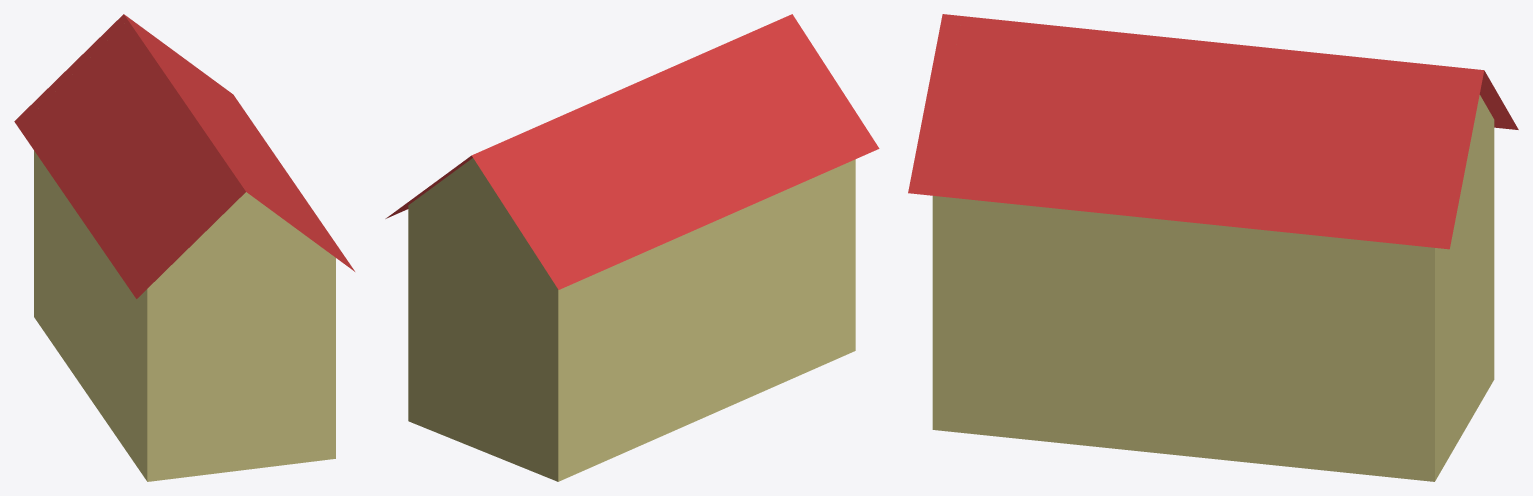
3 renders of one model, left to right at view 1: azimuth 30°, elevation 25°; view 2: azimuth 150°, elevation 25°; view 3: azimuth 270°, elevation 25°, orthographic. The views are drawn at different scales.
Parts seen in each view (by area): view 1: group_5, group_3, group_4; view 2: group_5, group_3, group_4; view 3: group_5, group_3, group_4.
Part boxes in pixels (x1=…): group_5: x1=34, y1=150, x2=335, y2=481; group_3: x1=15, y1=14, x2=335, y2=298; group_4: x1=14, y1=14, x2=354, y2=271; group_5: x1=408, y1=158, x2=855, y2=481; group_3: x1=391, y1=14, x2=879, y2=289; group_4: x1=385, y1=150, x2=680, y2=289; group_5: x1=932, y1=95, x2=1494, y2=481; group_3: x1=909, y1=16, x2=1518, y2=249; group_4: x1=908, y1=14, x2=1515, y2=248.
Bounding box in the file's own units: 15.31 × 22.53 × 14.75.
